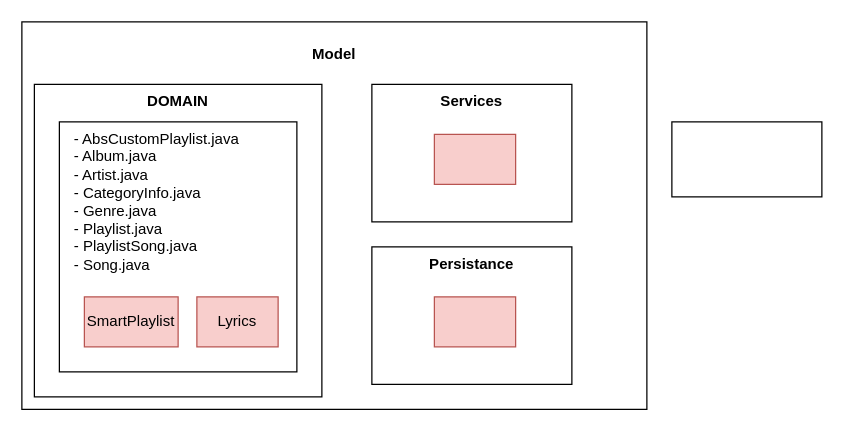
This 844x431 diagram has some shape labels left out. Each missing label, with the centre of its shape:
"Loader" belongs at point 474,158.
"MediaStore (BD Android)" belongs at point 746,159.
"Provider" belongs at point 474,321.
